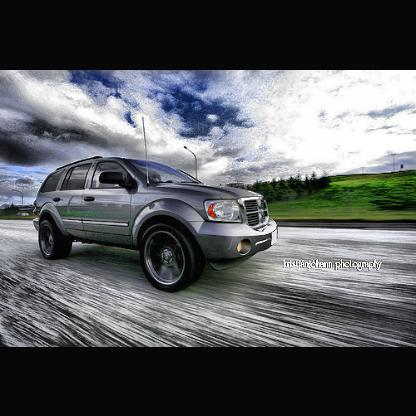Dodge Durango SUV 2007: (36, 158, 280, 291)
